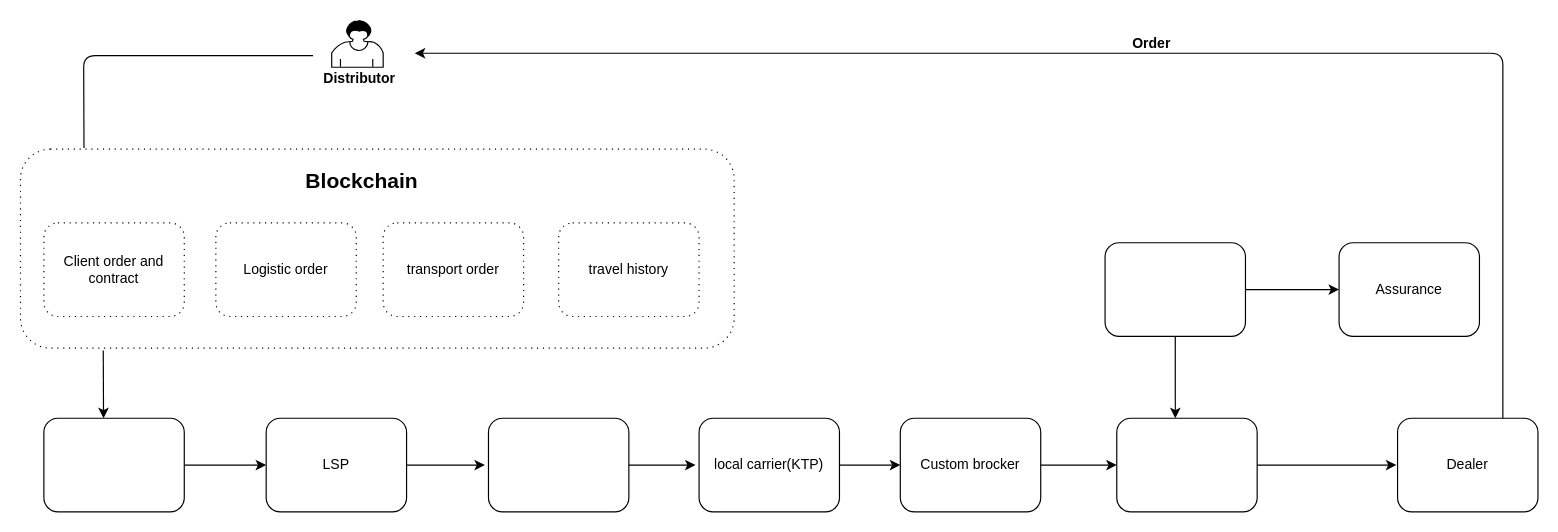
Some shapes in this 1558 by 532 pixel diagram are drawn without their labels. Here are the shapes that lost their labels. From the top down, the centre of each, then its label:
At point 1174,289: "Claim Agent".
At point 113,464: "EOM".
At point 558,464: "International carrier".
At point 1186,464: "Warehouse".
